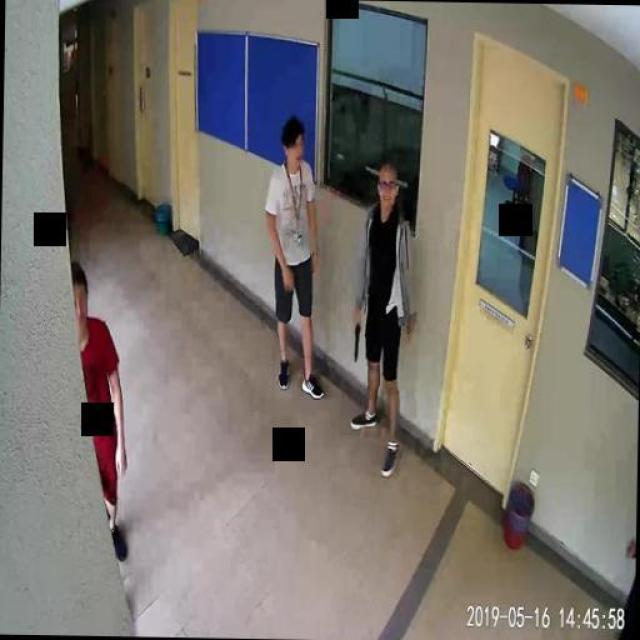gun: (351, 316, 361, 360)
